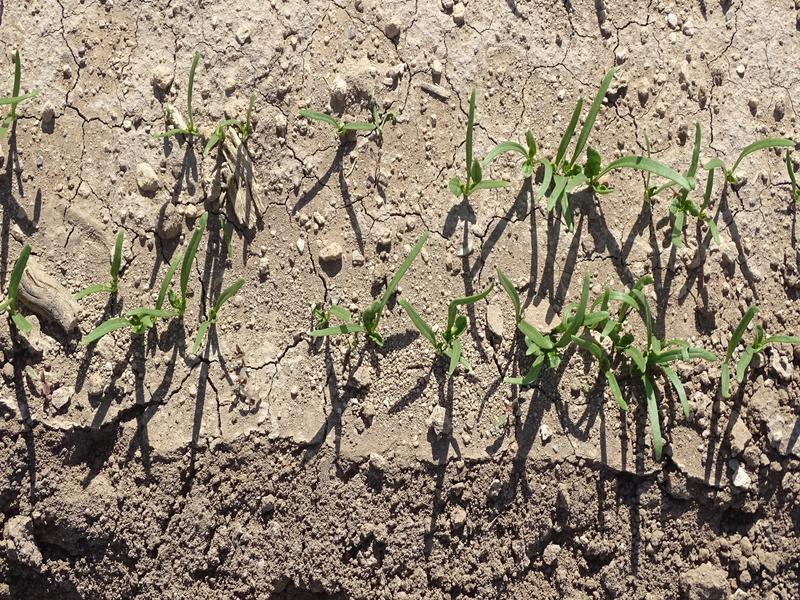Espinaca: (496, 84, 794, 254), (483, 276, 792, 428), (78, 223, 247, 357), (320, 236, 426, 346), (407, 283, 498, 379), (161, 104, 255, 159), (449, 100, 500, 196), (1, 244, 41, 341), (302, 105, 385, 138)
